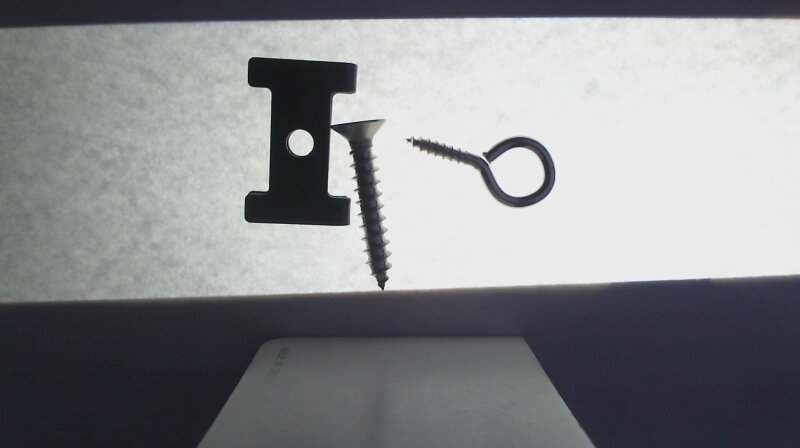O001: (401, 135, 558, 208)
O002: (243, 55, 357, 228)
S001: (330, 118, 392, 289)
